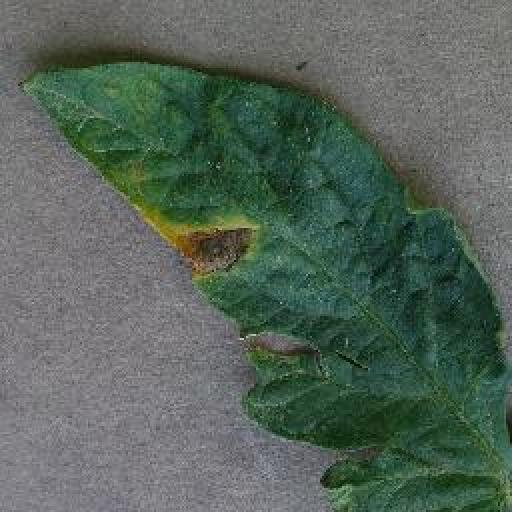disease_tomato: (18, 52, 512, 512)
